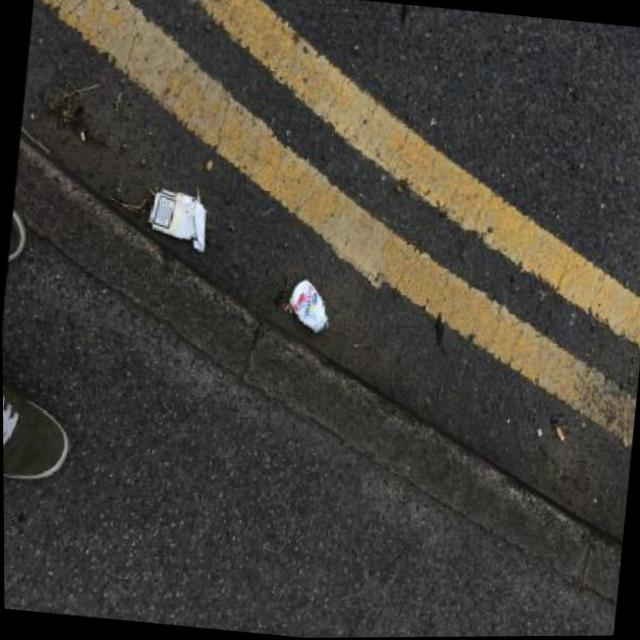cardboard: (143, 185, 208, 252)
plastic: (285, 277, 330, 333)
